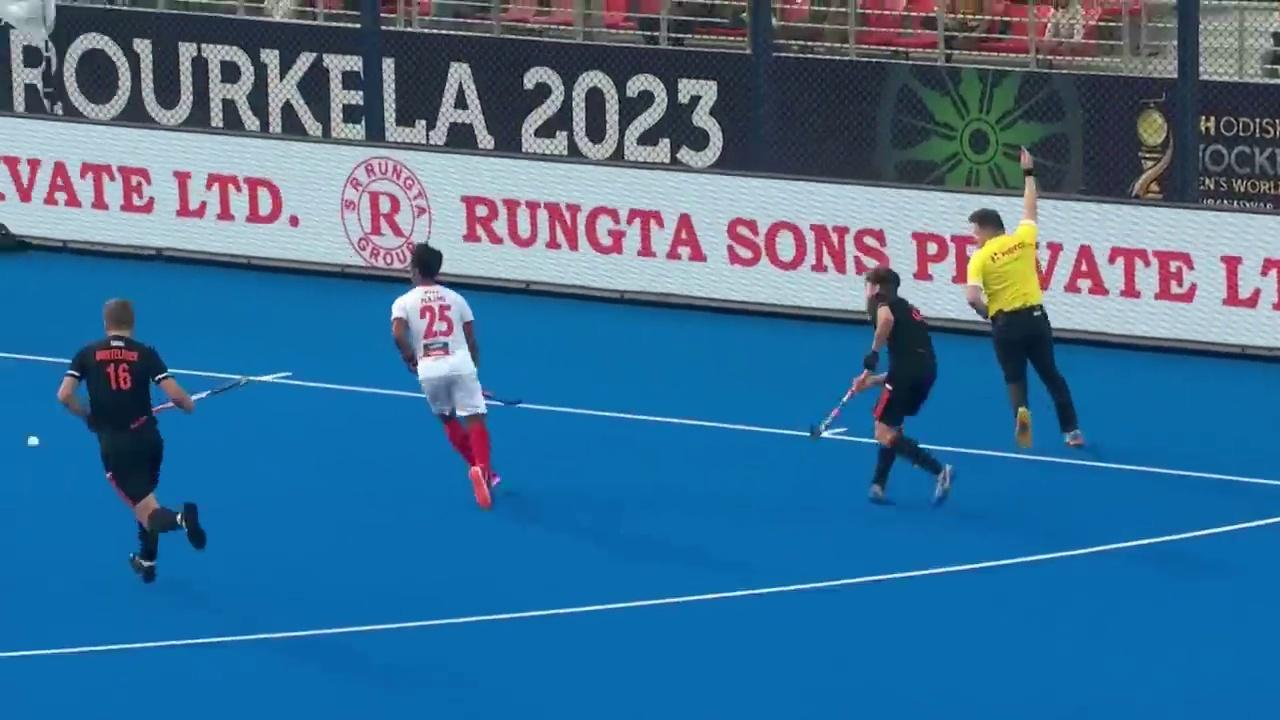ball: (18, 431, 50, 457)
